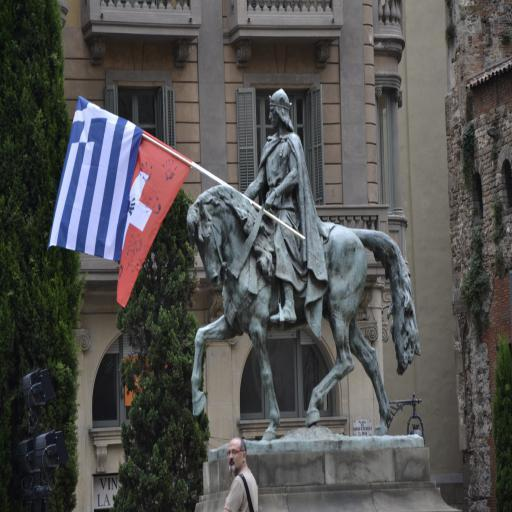horse: (188, 184, 422, 441)
